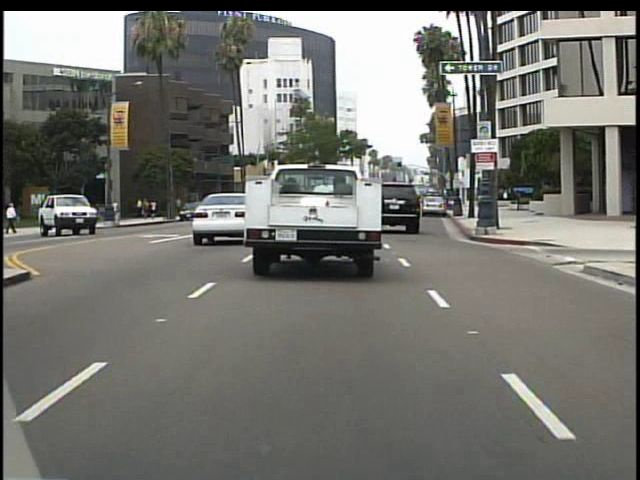person: (7, 199, 23, 237), (66, 192, 82, 229), (60, 199, 76, 234), (115, 197, 123, 225)
